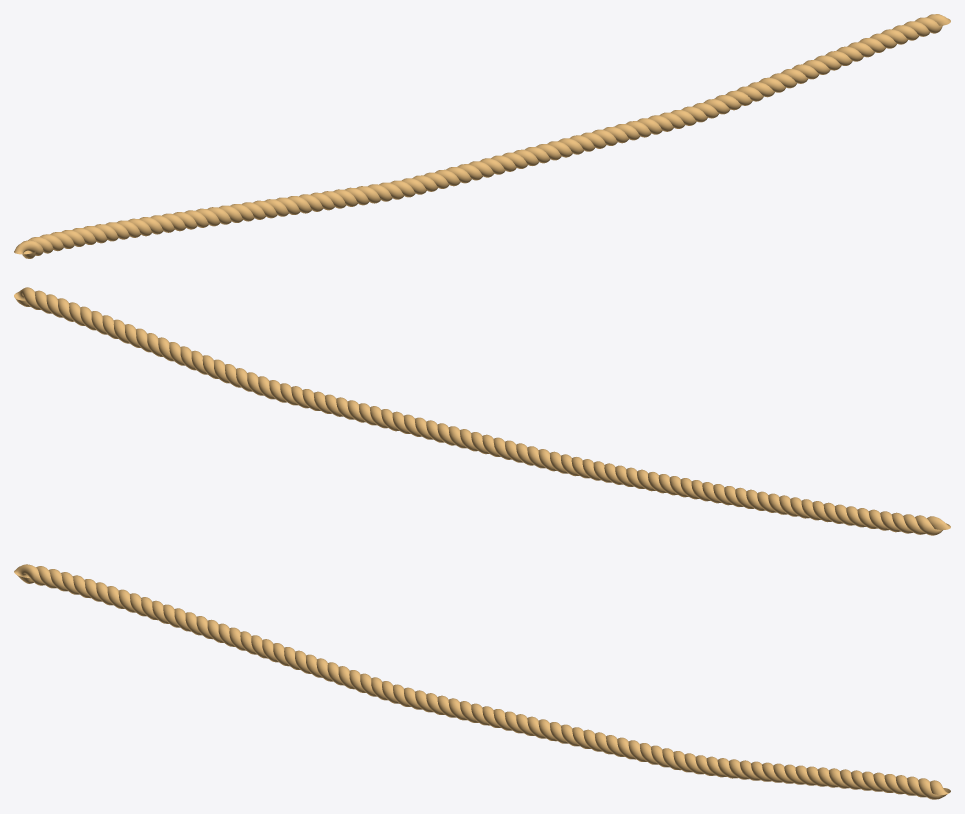
File: Corda.fbx
3 views of the same model, one above another, from view 1: azimuth 30°, elevation 25°; view 2: azimuth 150°, elevation 25°; view 3: azimuth 330°, elevation 25° (orthographic).
Parts seen in each view (by area): view 1: BezierCircle; view 2: BezierCircle; view 3: BezierCircle.
Part boxes in pixels (box(x1,y1,x2,y2)): BezierCircle: box(14, 14, 950, 258); BezierCircle: box(14, 287, 950, 535); BezierCircle: box(14, 564, 950, 799).
Size of the model in its own units: 2080 by 114 by 59.79.
